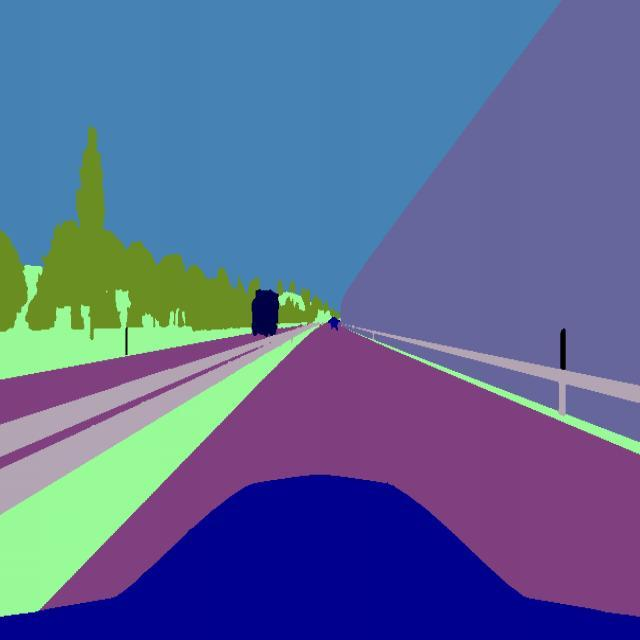safe: (250, 287, 283, 340), (328, 314, 340, 336)
